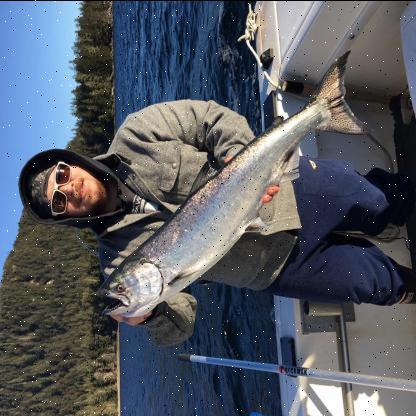fish: (92, 52, 374, 320)
